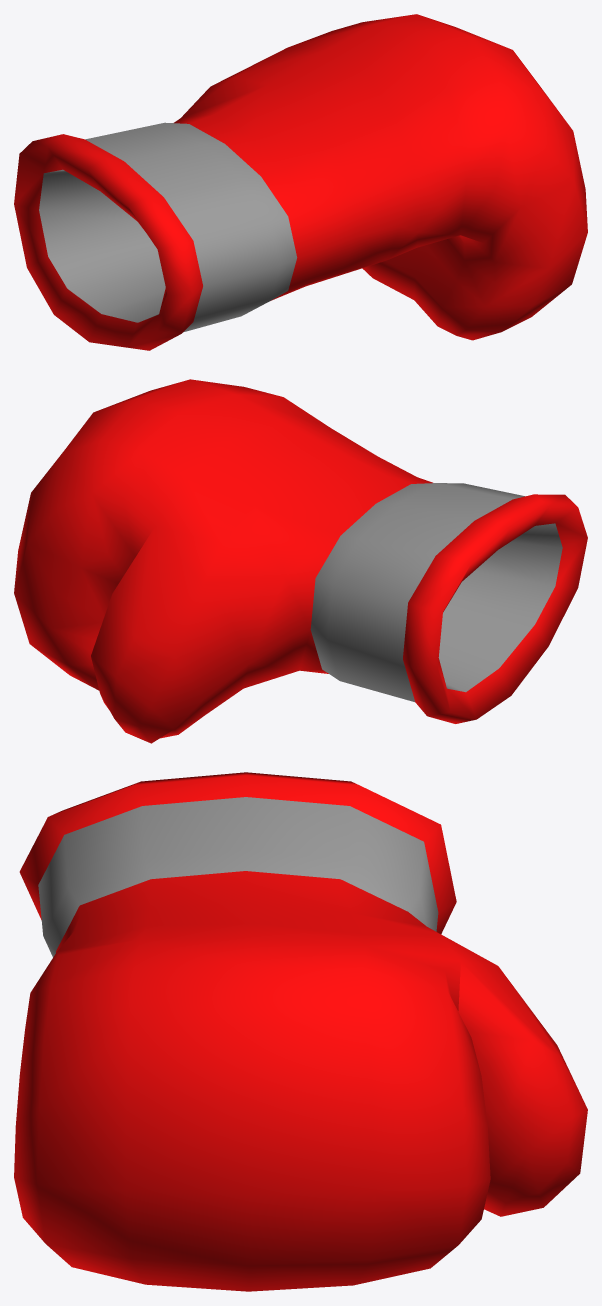
File: Entity_BoxingGlove.FBX
3 renders of one model, top to bottom at view 1: azimuth 30°, elevation 25°; view 2: azimuth 150°, elevation 25°; view 3: azimuth 270°, elevation 25°, orthographic. The views are drawn at different scales.
Parts seen in each view (by area): view 1: BoxingGlove; view 2: BoxingGlove; view 3: BoxingGlove.
Boxes of the visible parts, x1,y1,x2,y2 form: BoxingGlove: (14,14,587,350); BoxingGlove: (14,379,587,743); BoxingGlove: (14,772,587,1291).
Bounding box in the file's own units: 107 × 55.94 × 86.42.
